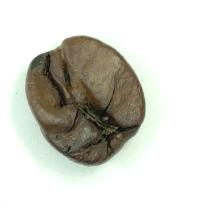NG: (36, 47, 128, 150)
